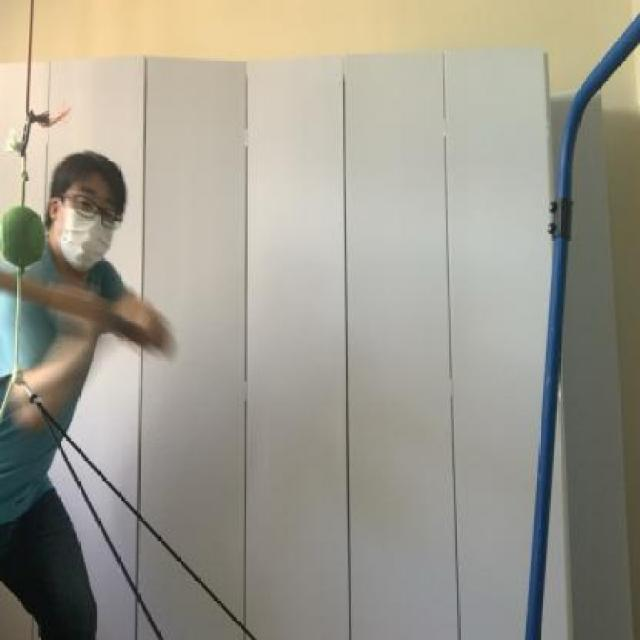baseball: (1, 197, 50, 271)
